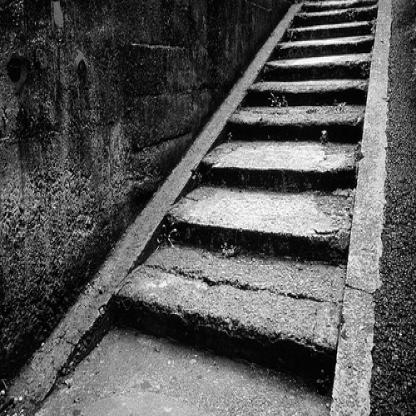stairs: (160, 152, 349, 400)
